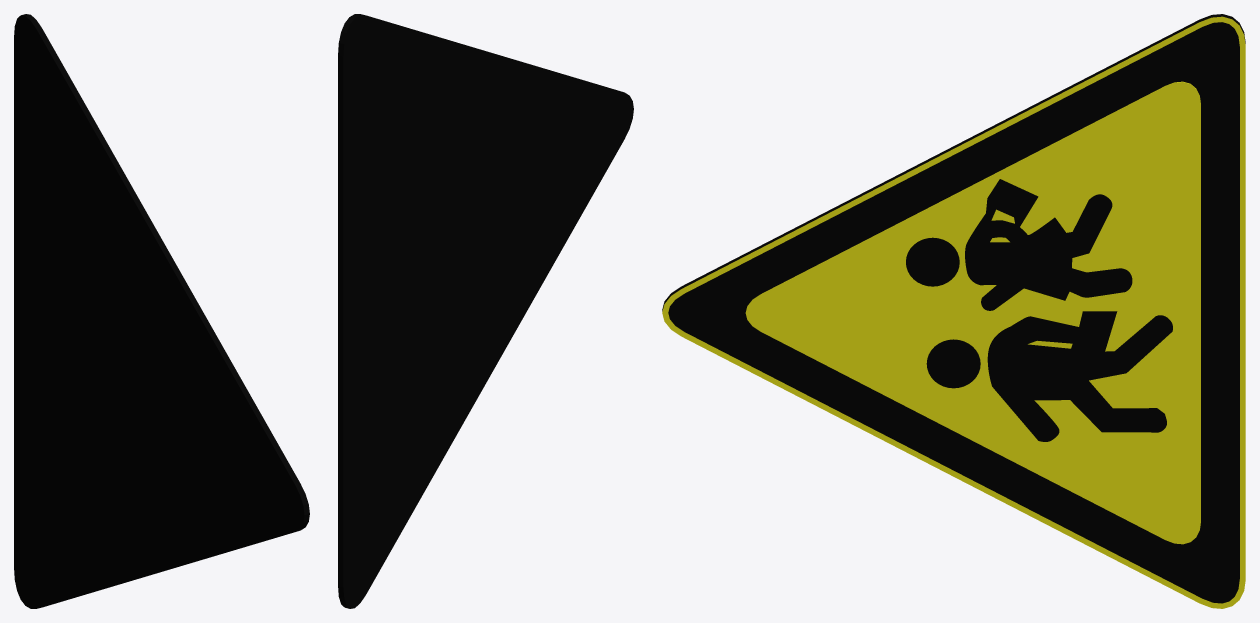
File: 注意儿童.gltf
The picture shows the model from 3 angles, left to right: view 1: azimuth 30°, elevation 25°; view 2: azimuth 150°, elevation 25°; view 3: azimuth 270°, elevation 25°; orthographic projection.
Parts seen in each view (by area): view 1: 平面.001; view 2: 平面.001; view 3: 平面.003, 平面.001, BezierCurve.
Boxes of the visible parts, x1,y1,x2,y2 form: 平面.001: (14,14,309,608); 平面.001: (338,14,633,608); 平面.003: (745,81,1200,544); 平面.001: (662,14,1245,608); BezierCurve: (906,179,1172,441).
Size of the model in its own units: 0.0121 by 0.9304 by 0.8307.
